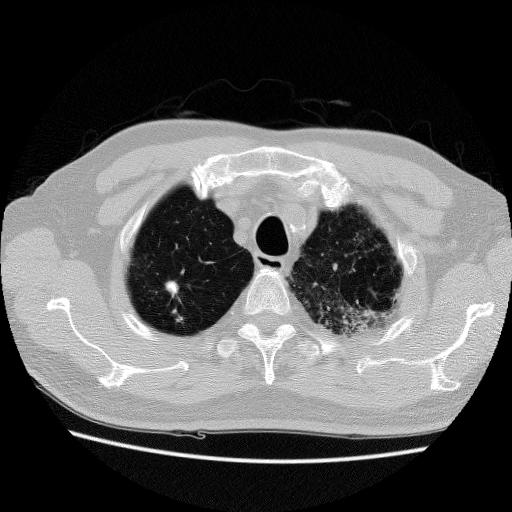nodule: (163, 276, 186, 299)
